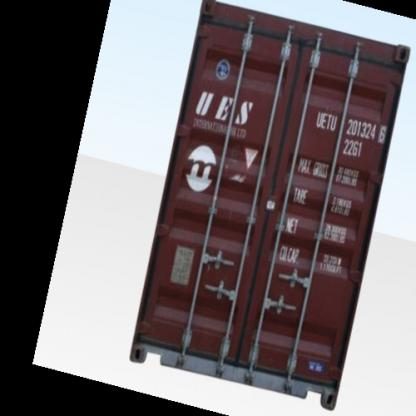Damage: (214, 138, 256, 186), (196, 8, 248, 40)
